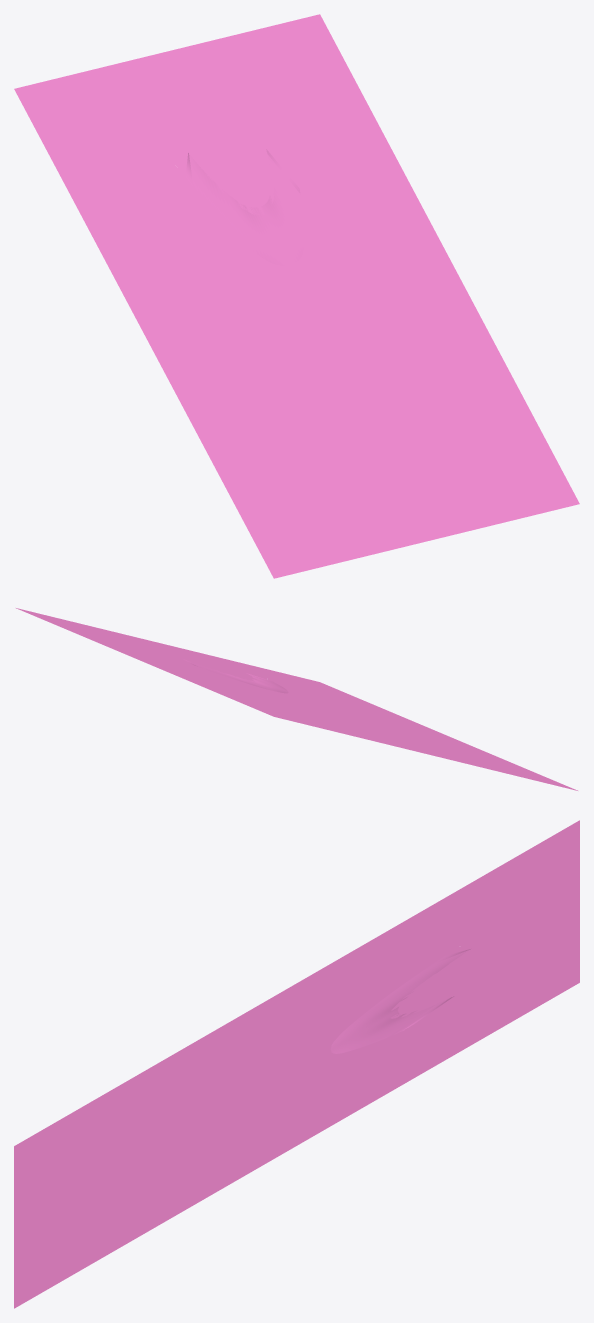
The model's file is InstitutoNavMesh2.3.glb.
3 views of the same model, one above another, from view 1: azimuth 30°, elevation 25°; view 2: azimuth 150°, elevation 25°; view 3: azimuth 270°, elevation 25° (orthographic). The views are drawn at different scales.
Visible parts, largest first — view 1: navmesh.001; view 2: navmesh.001; view 3: navmesh.001.
Boxes of the visible parts, bbox=[...] form: navmesh.001: bbox=[14, 14, 579, 578]; navmesh.001: bbox=[16, 608, 577, 790]; navmesh.001: bbox=[14, 820, 579, 1308].
Size of what is drawn, in the model's own units: 3.13 by 2.92 by 4.6.
